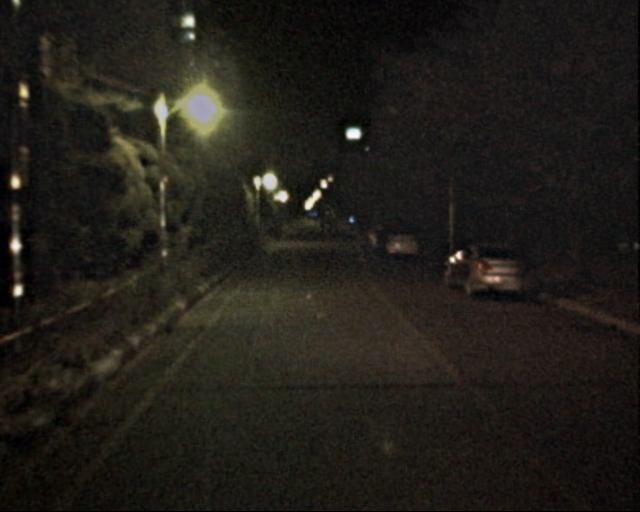person: (371, 222, 390, 268), (355, 227, 371, 267), (281, 218, 290, 241), (322, 219, 333, 237)
